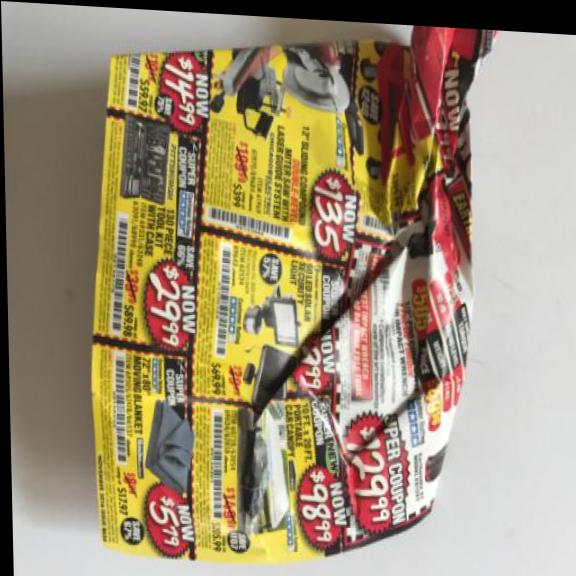Kertas: (70, 4, 516, 576)
